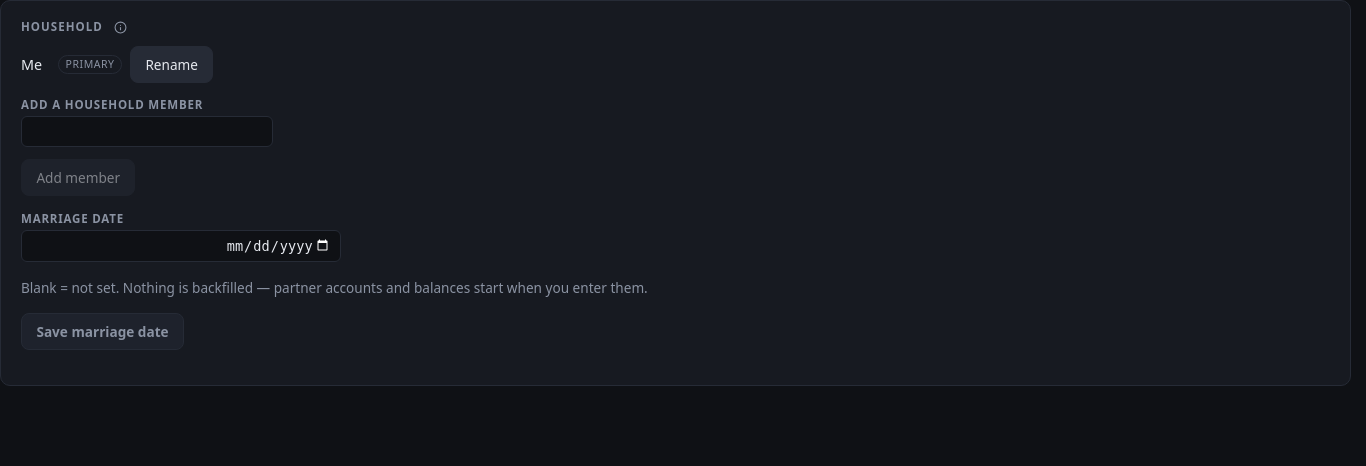
Test: selects an inline rename and Escape restores its Rename button without leaking its error
Click the button with aria-label "Rename Me" at coordinates (172, 64), box [130,46,213,83]
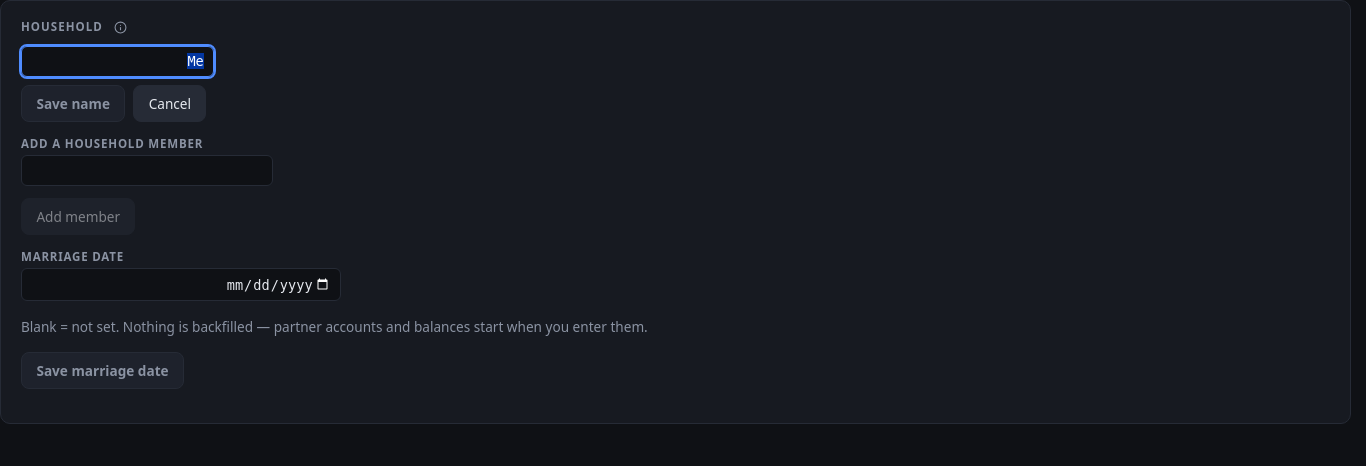
Replace the text in the field named "New name for Me" with "Partner" at coordinates (117, 61), box [21,46,214,77]
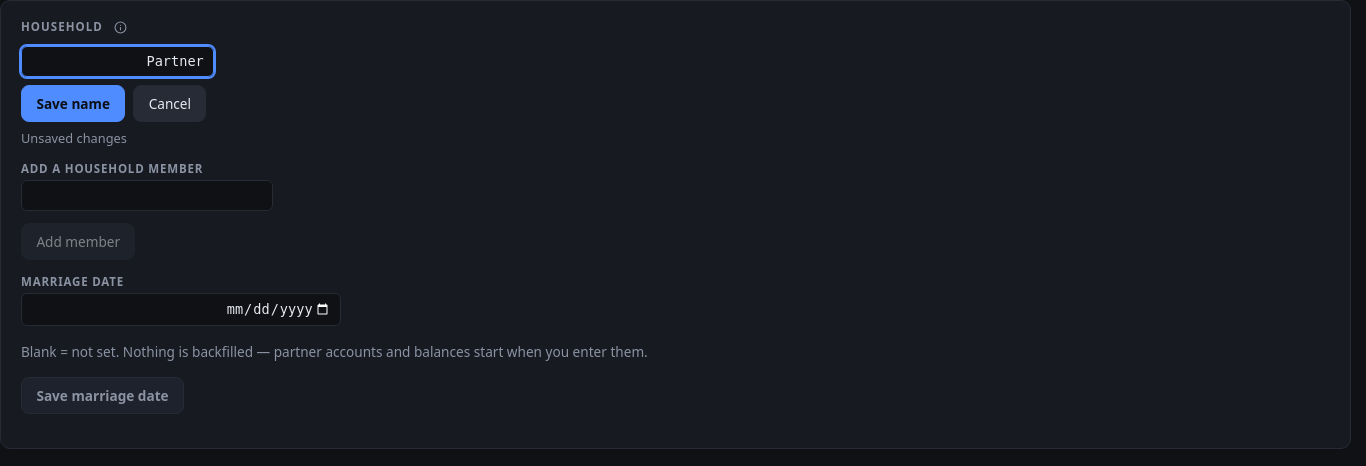
Submit the form named "New name for Me", box [21,46,214,146]
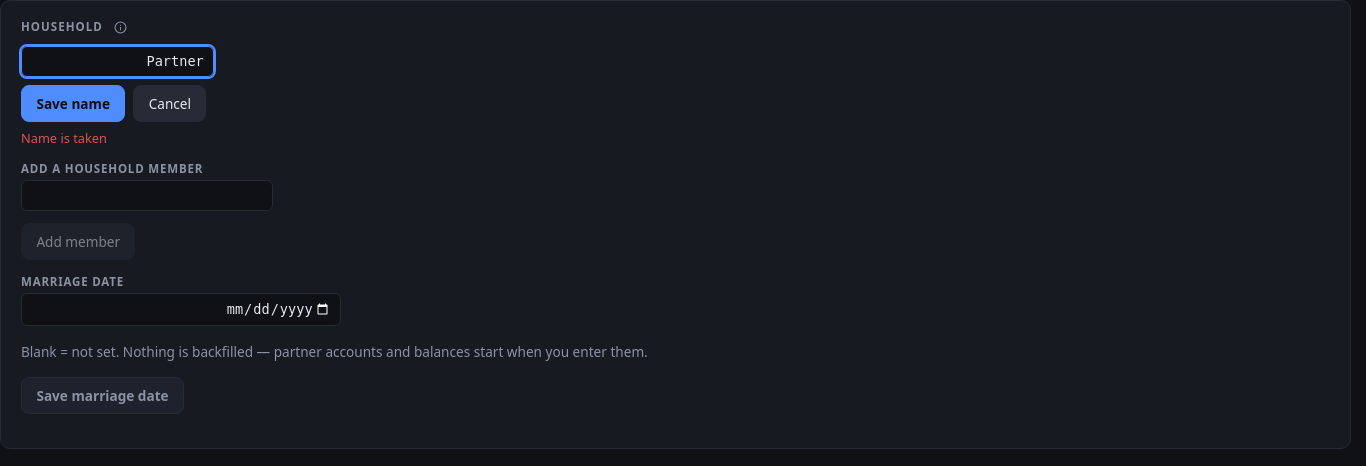
Expected: the text "Name is taken" is shown, [21,129,107,147]
Press Escape in the field named "New name for Me", box [21,46,214,77]
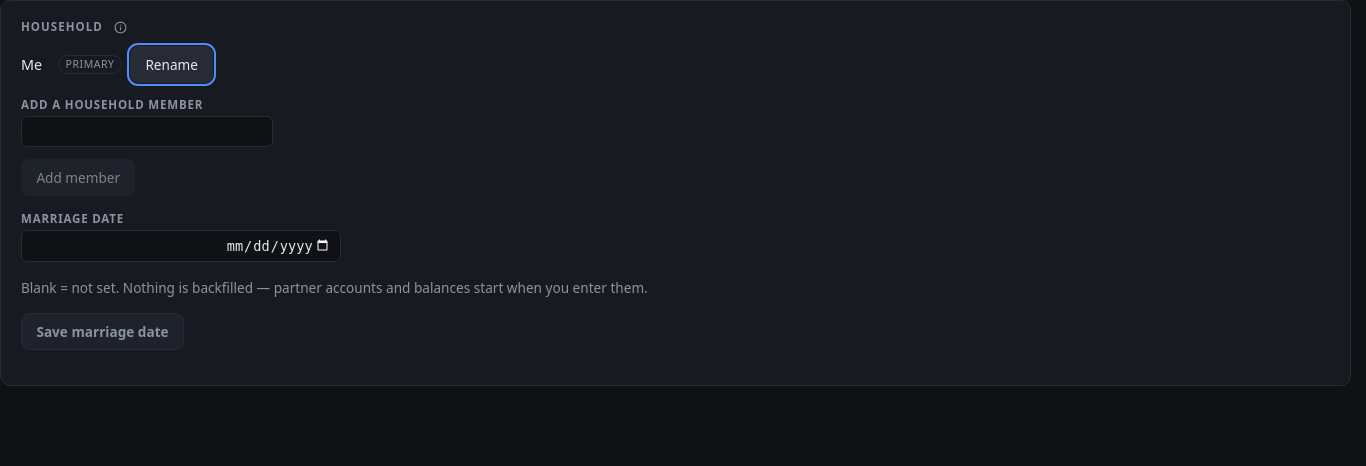
Expected: the text "Name is taken" is gone
